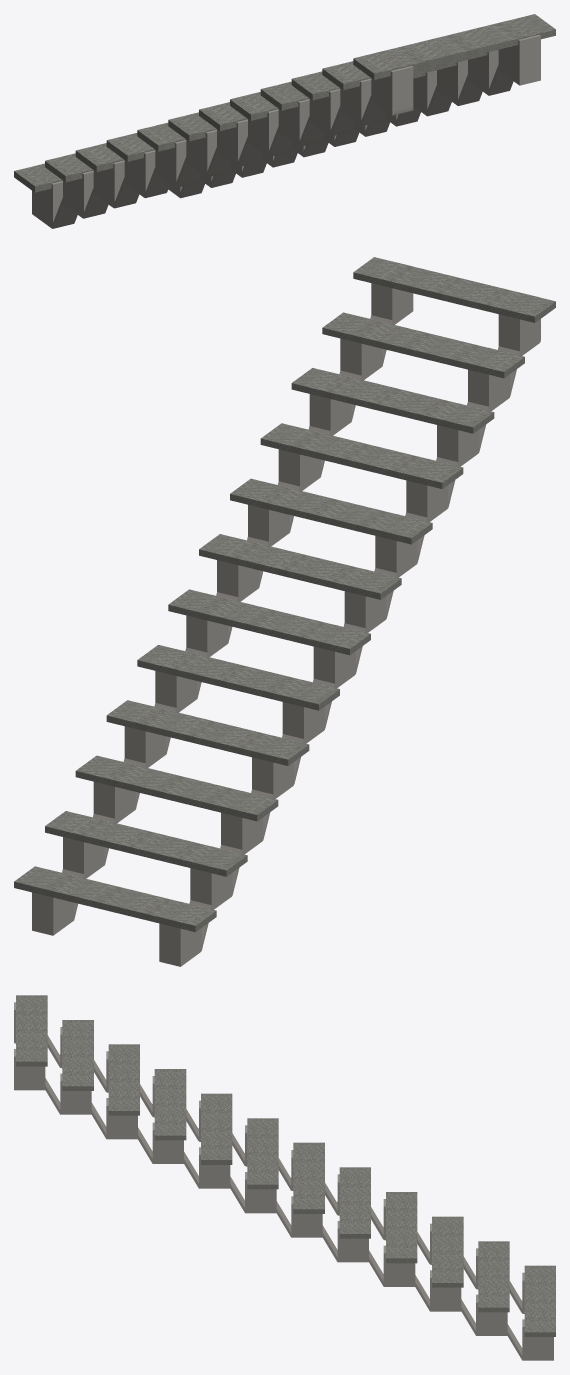
File: escalier_metallique.fbx
3 renders of one model, top to bottom at view 1: azimuth 30°, elevation 25°; view 2: azimuth 150°, elevation 25°; view 3: azimuth 270°, elevation 25°, orthographic. The views are drawn at different scales.
Visible parts, largest first — view 1: pCube27; view 2: pCube27; view 3: pCube27.
Boxes of the visible parts, x1,y1,x2,y2 form: pCube27: [14, 14, 555, 228]; pCube27: [14, 257, 555, 966]; pCube27: [14, 995, 555, 1360].
Bounding box in the file's own units: 150 × 321 × 517.
